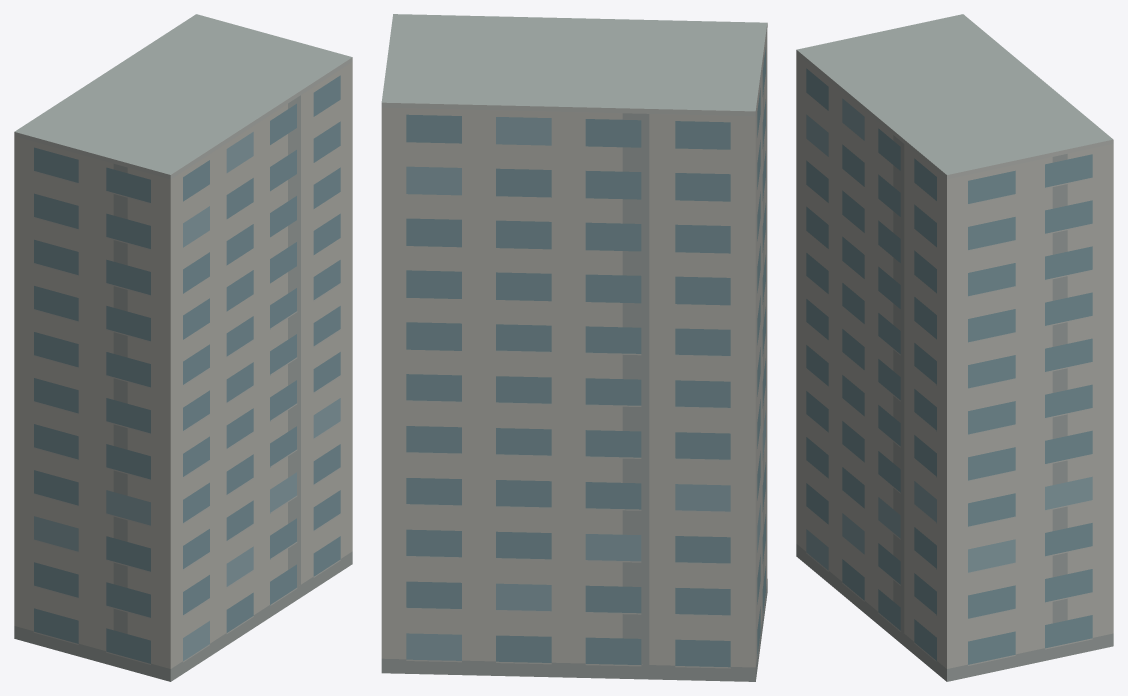
The model's file is residential-c39d6901-11eb-4f1d-a176-3eaadd080661.glb.
The picture shows the model from 3 angles, left to right: view 1: azimuth 30°, elevation 25°; view 2: azimuth 150°, elevation 25°; view 3: azimuth 270°, elevation 25°; orthographic projection. The views are drawn at different scales.
Parts seen in each view (by area): view 1: residential-c39d6901-11eb-4f1d-a176-3eaadd080661.tmp; view 2: residential-c39d6901-11eb-4f1d-a176-3eaadd080661.tmp; view 3: residential-c39d6901-11eb-4f1d-a176-3eaadd080661.tmp.
Part boxes in pixels (box(x1,y1,x2,y2)): residential-c39d6901-11eb-4f1d-a176-3eaadd080661.tmp: box(14, 14, 352, 681); residential-c39d6901-11eb-4f1d-a176-3eaadd080661.tmp: box(381, 14, 767, 681); residential-c39d6901-11eb-4f1d-a176-3eaadd080661.tmp: box(796, 14, 1113, 681).
Bounding box in the file's own units: 19.1 × 28 × 15.88.
